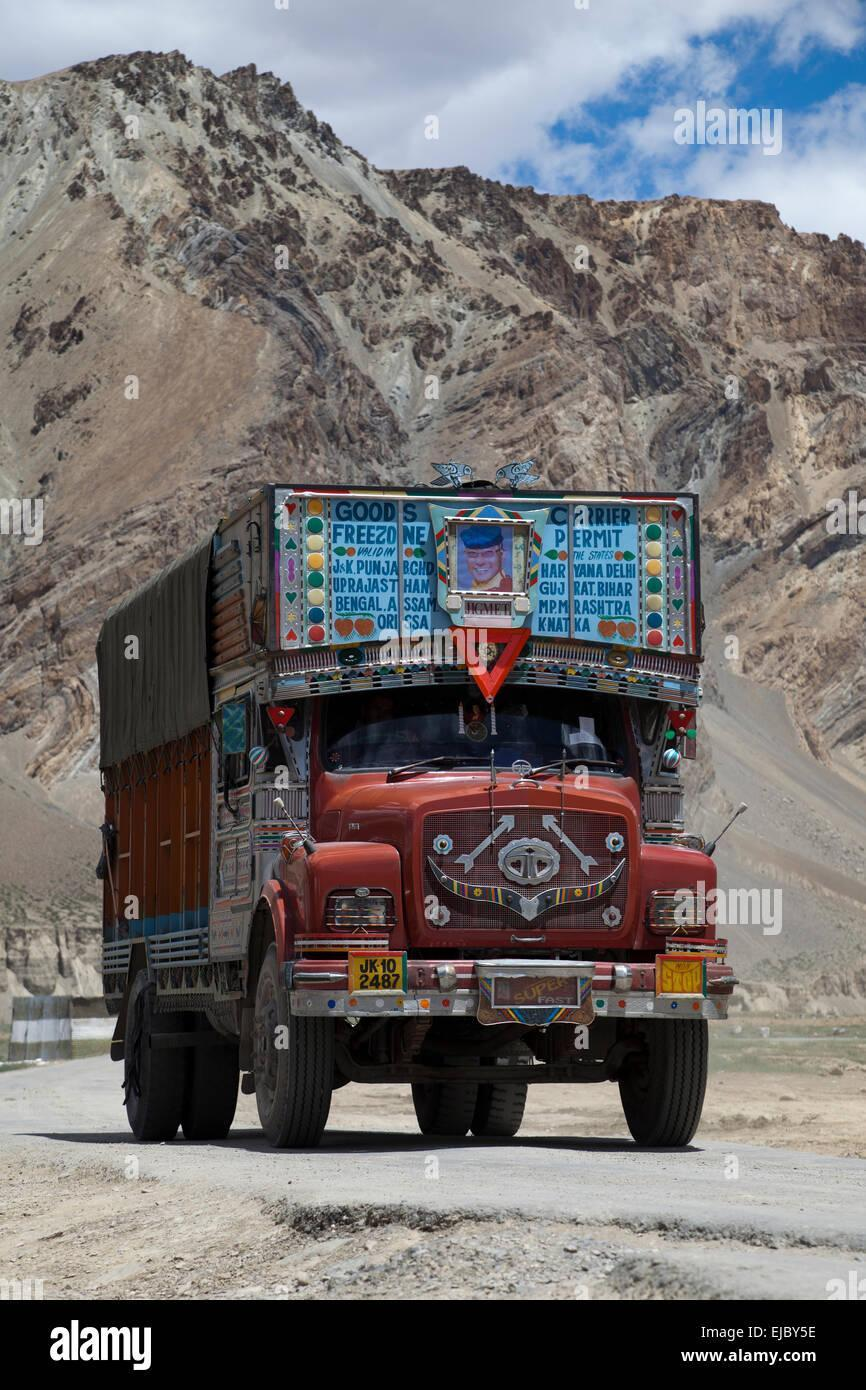truck: (50, 465, 776, 1181)
